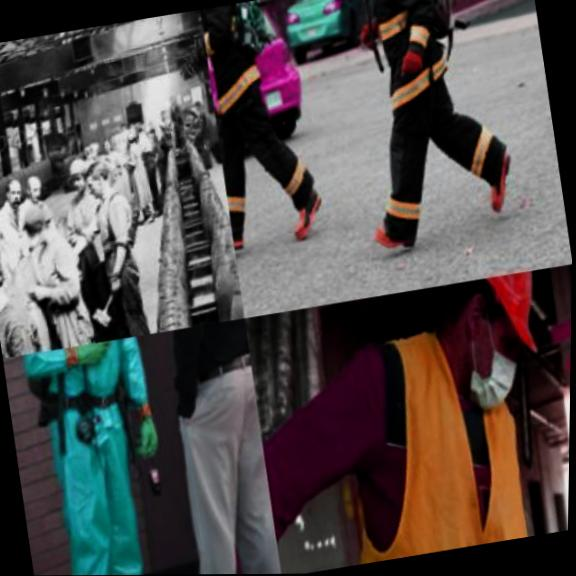safety_vest: (285, 295, 561, 571), (12, 332, 169, 433), (355, 0, 469, 99), (200, 0, 284, 126)
